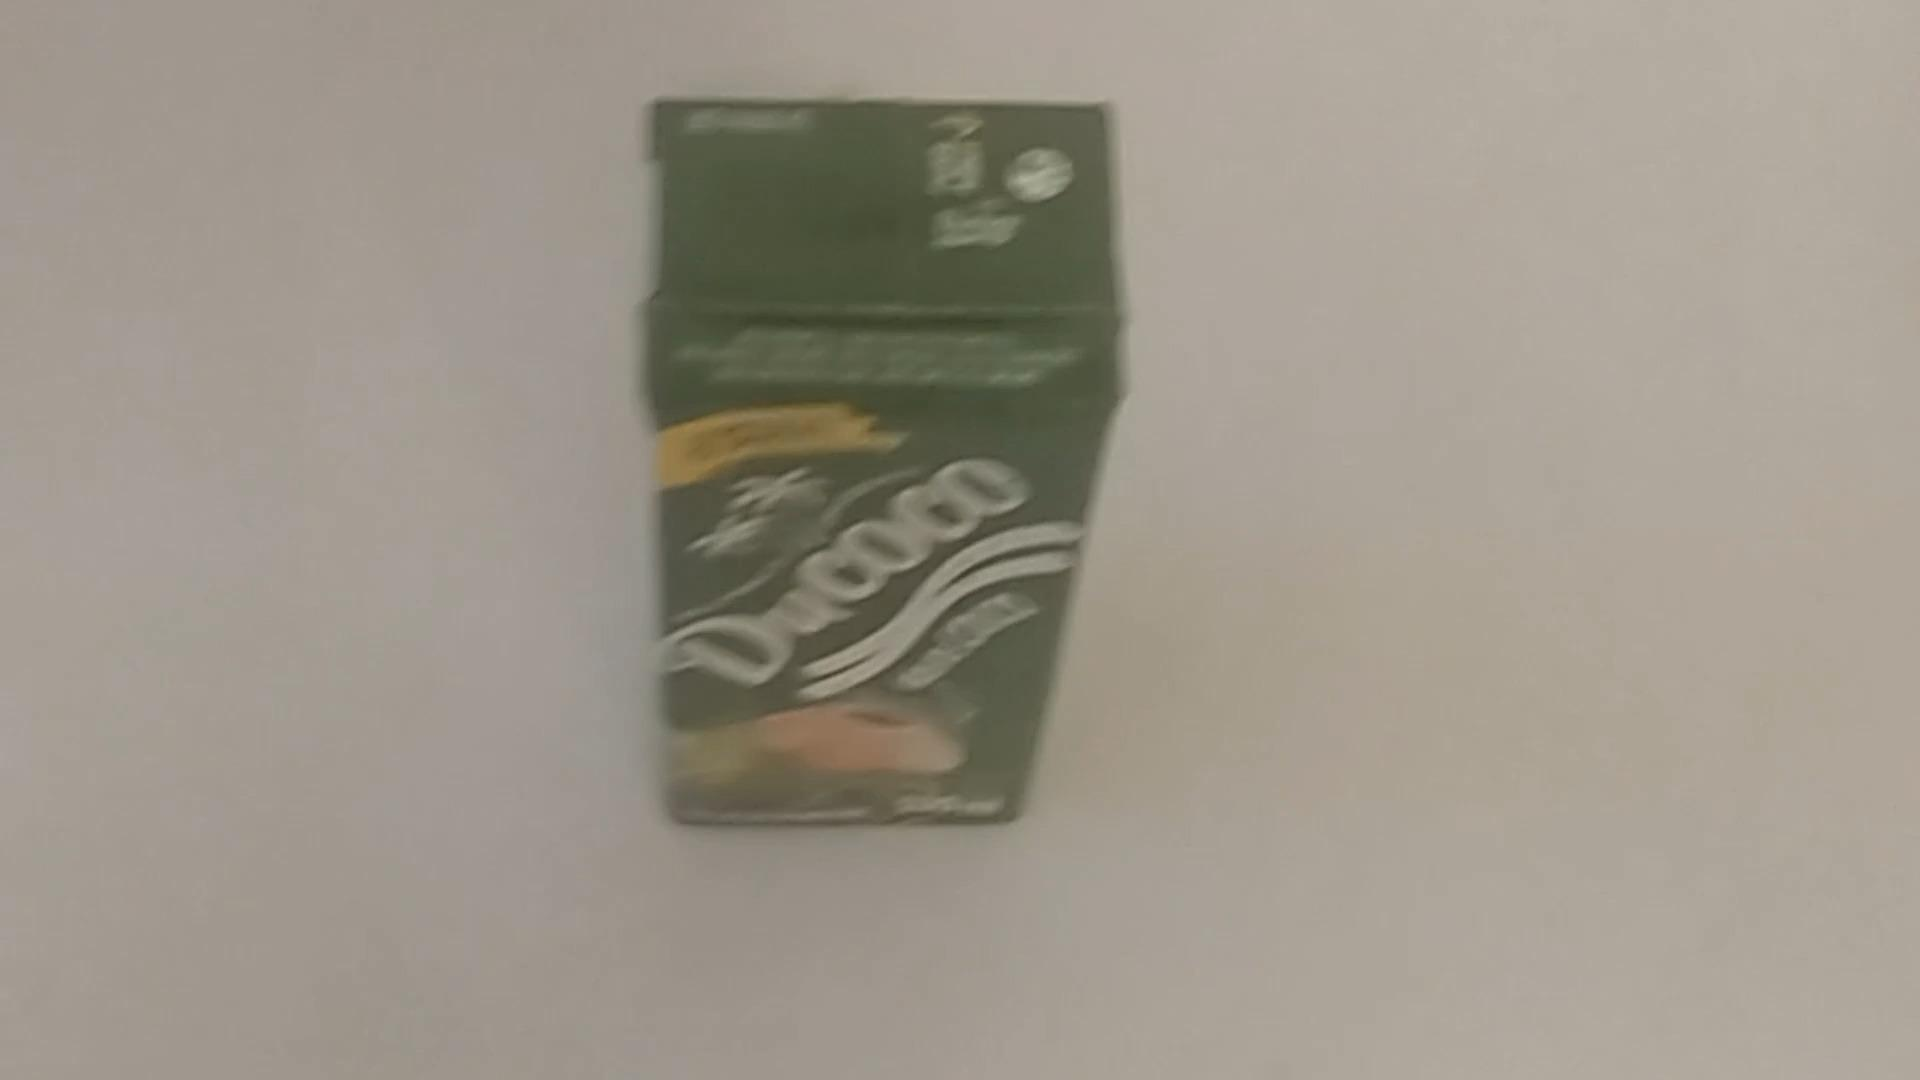coco: (637, 92, 1126, 839)
